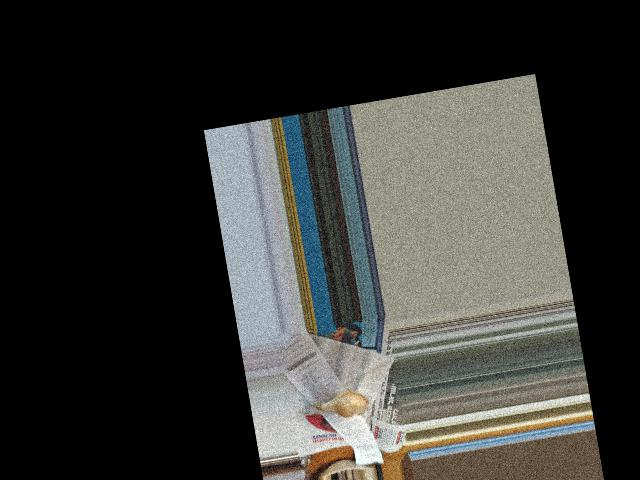onion: (319, 385, 367, 421)
